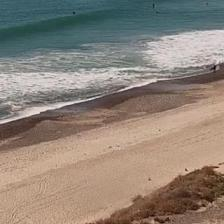surfer: (156, 11, 162, 14), (72, 11, 76, 14), (153, 3, 155, 6), (206, 2, 208, 5)
